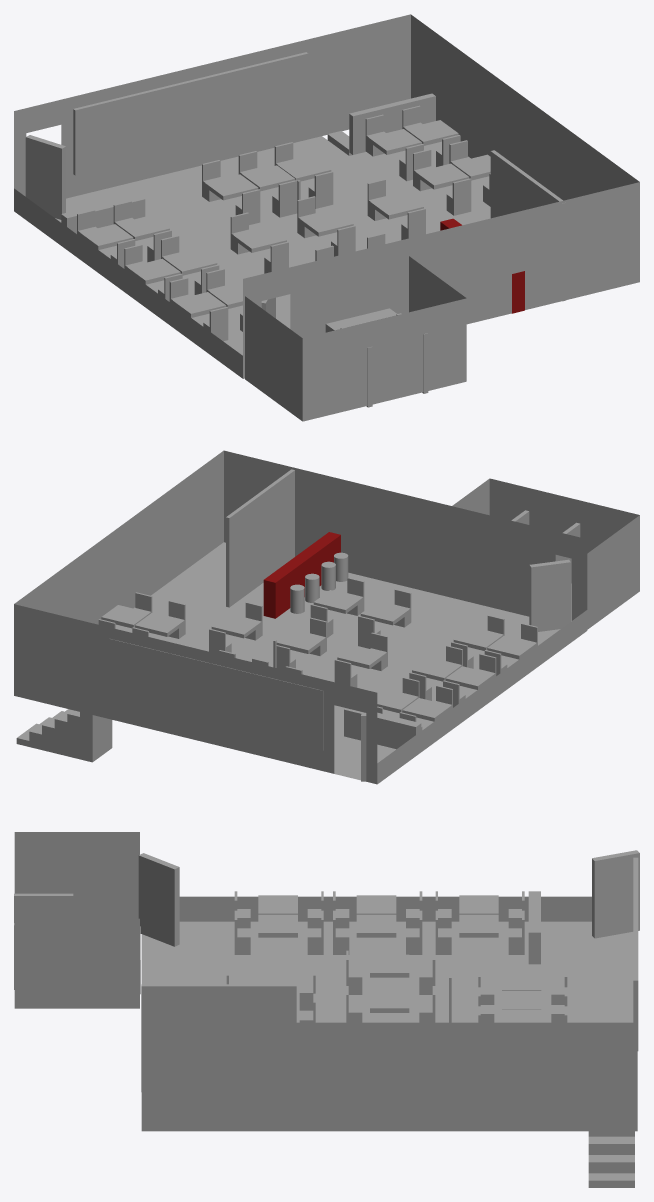
File: Blockout restaurant 1.fbx
3 renders of one model, top to bottom at view 1: azimuth 30°, elevation 25°; view 2: azimuth 150°, elevation 25°; view 3: azimuth 270°, elevation 25°, orthographic. The views are drawn at different scales.
Parts seen in each view (by area): view 1: pPlane1, pPlane2, pCube65, pCube6, pCube9, pCube7, pCube4, pCube29, pCube41, pCube44, pCube3, pCube38 (+21 smaller); view 2: pPlane1, pCube65, pPlane2, pCube6, pCube8, pCube66, pCube5, pCube4, pCube61, pCube41, pCube64, pCube44 (+11 smaller); view 3: pPlane1, pPlane2, pCube6, pCube9, pCube66, pCube8, pCube67, pCube65, pCube17, pCube4, pCube14, pCube23 (+10 smaller).
Boxes of the visible parts, <box> form: pPlane1: <box>14,14,639,378</box>; pPlane2: <box>245,256,466,421</box>; pCube65: <box>73,52,308,175</box>; pCube6: <box>490,150,566,301</box>; pCube9: <box>25,135,65,219</box>; pCube7: <box>349,93,435,154</box>; pCube4: <box>61,195,145,233</box>; pCube29: <box>368,129,421,154</box>; pCube41: <box>233,227,286,252</box>; pCube44: <box>370,193,423,219</box>; pCube3: <box>300,210,353,236</box>; pCube38: <box>416,163,469,189</box>; pPlane1: <box>14,450,587,784</box>; pCube65: <box>109,639,323,750</box>; pPlane2: <box>452,478,639,629</box>; pCube6: <box>226,469,294,607</box>; pCube8: <box>16,709,112,762</box>; pCube66: <box>529,559,570,631</box>; pCube5: <box>263,532,340,618</box>; pCube4: <box>344,708,421,749</box>; pCube61: <box>313,590,362,613</box>; pCube41: <box>337,645,386,668</box>; pCube64: <box>360,601,409,625</box>; pCube44: <box>211,614,260,638</box>; pPlane1: <box>141,896,637,1131</box>; pPlane2: <box>14,832,139,1008</box>; pCube6: <box>141,984,296,1091</box>; pCube9: <box>592,850,639,938</box>; pCube66: <box>138,853,179,946</box>; pCube8: <box>588,1131,634,1187</box>; pCube67: <box>14,893,73,922</box>; pCube65: <box>633,857,638,1050</box>; pCube17: <box>356,914,396,937</box>; pCube4: <box>528,891,540,964</box>; pCube14: <box>459,914,498,937</box>; pCube23: <box>258,914,297,937</box>.
Size of the model in its own units: 1841 by 680 by 2323.
